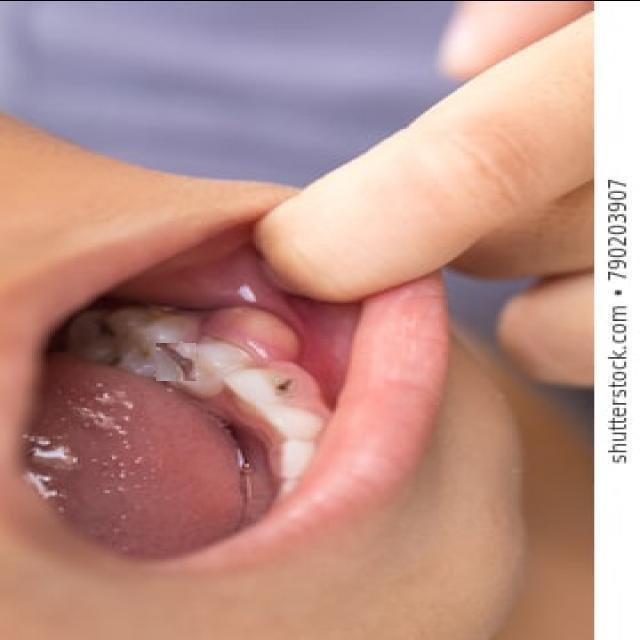caries: (156, 342, 196, 380), (94, 315, 120, 339), (275, 377, 301, 395)
